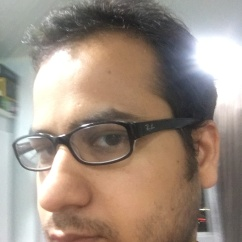glasses: (15, 129, 139, 164)
